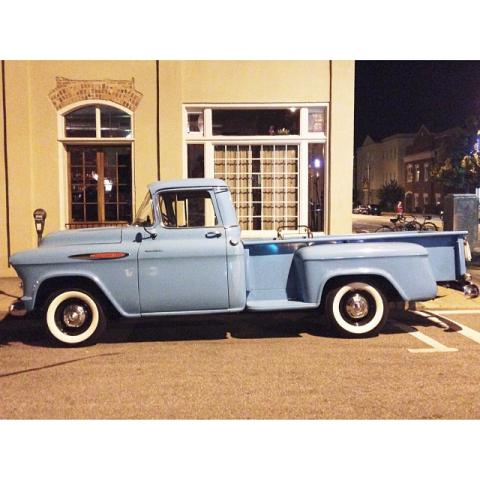truck: (8, 177, 470, 347)
